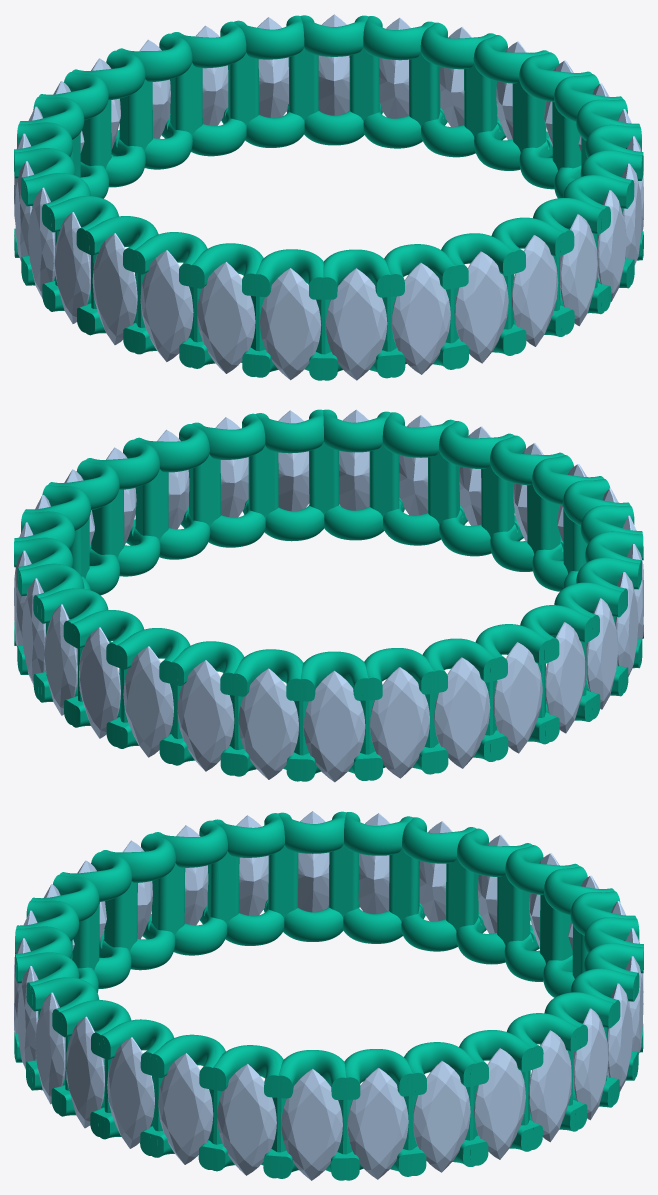
The picture shows the model from 3 angles, top to bottom: view 1: azimuth 30°, elevation 25°; view 2: azimuth 150°, elevation 25°; view 3: azimuth 270°, elevation 25°; orthographic projection.
Visible parts, largest first — view 1: MQ 4MM(base).3dm, Diamond_Marquise (×22); view 2: MQ 4MM(base).3dm, Diamond_Marquise (×23); view 3: MQ 4MM(base).3dm, Diamond_Marquise (×22).
Part boxes in pixels (x1,y1,x2,y2): MQ 4MM(base).3dm: (14,15,643,380); Diamond_Marquise (×22): (15,14,641,380); MQ 4MM(base).3dm: (14,409,643,781); Diamond_Marquise (×23): (14,409,643,782); MQ 4MM(base).3dm: (14,811,643,1180); Diamond_Marquise (×22): (17,811,643,1180).
Size of the model in its own units: 2.8 by 0.5918 by 2.8.
